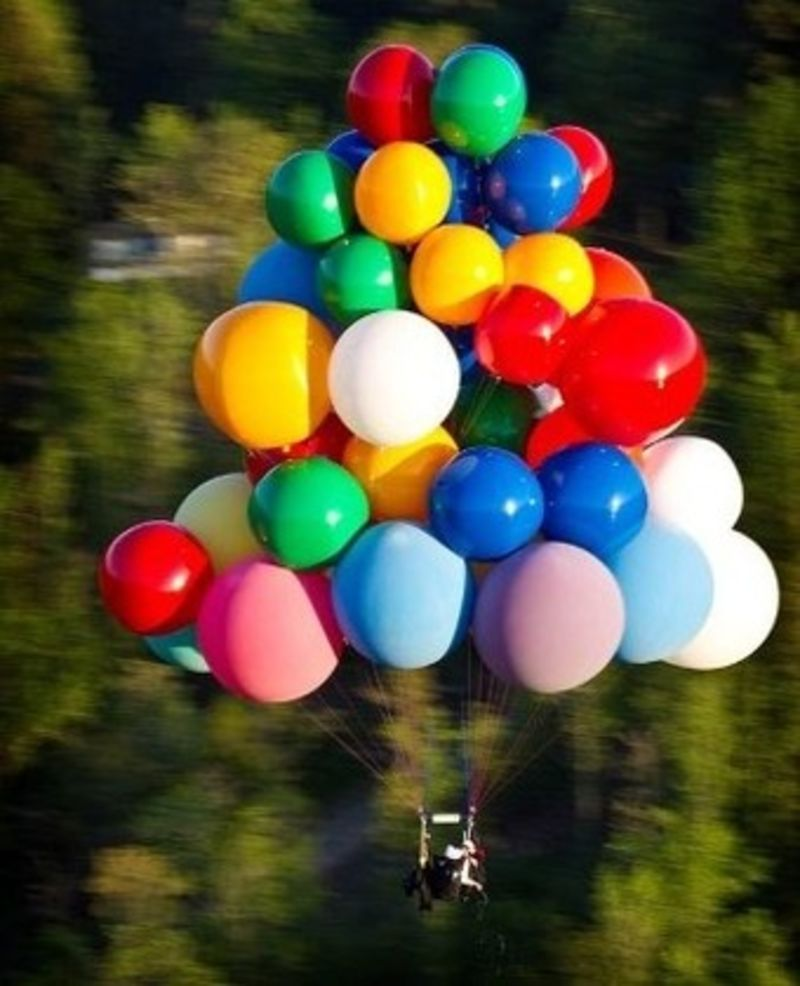Balloon: (334, 515, 478, 670), (478, 542, 625, 692), (195, 301, 332, 449), (571, 295, 709, 440), (201, 559, 340, 702), (327, 306, 458, 442), (96, 519, 215, 635), (430, 444, 544, 559), (248, 459, 364, 567), (434, 44, 532, 152), (344, 43, 437, 144), (477, 284, 571, 383), (492, 130, 584, 230), (267, 149, 361, 246), (357, 140, 451, 237), (408, 222, 498, 316)
